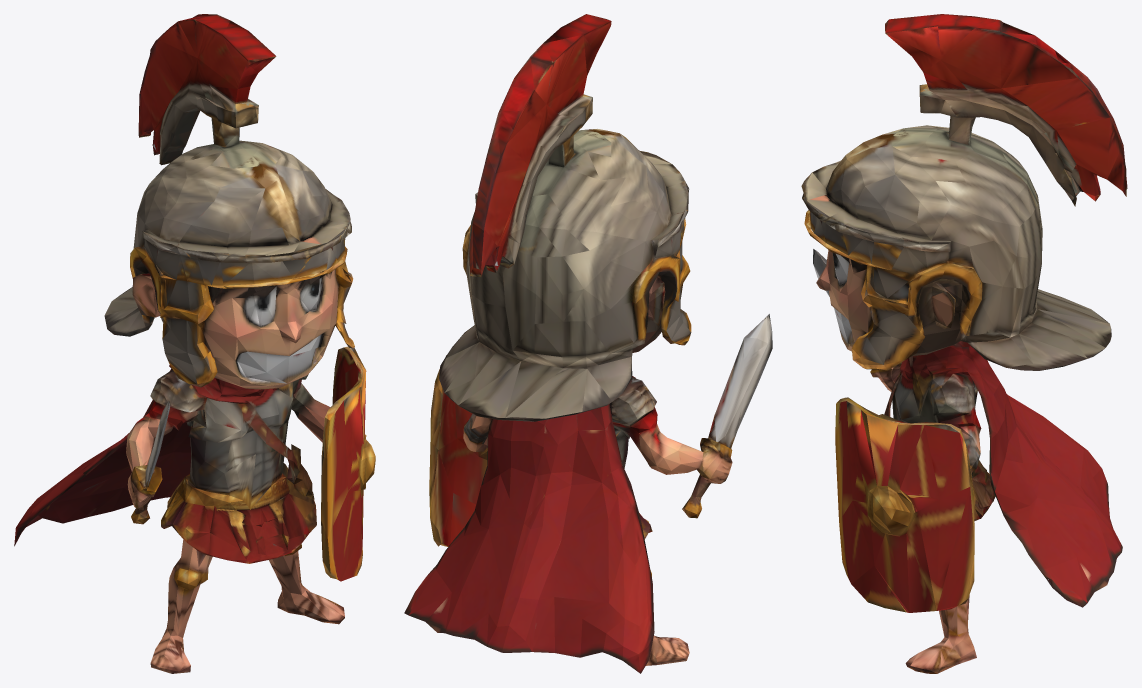
Rendered from romanoMAt.glb.
3 renders of one model, left to right at view 1: azimuth 30°, elevation 25°; view 2: azimuth 150°, elevation 25°; view 3: azimuth 270°, elevation 25°, orthographic. The views are drawn at different scales.
Visible parts, largest first — view 1: temp; view 2: temp; view 3: temp.
Boxes of the visible parts, <box> form: temp: <box>14,14,375,673</box>; temp: <box>404,14,772,673</box>; temp: <box>801,14,1127,673</box>.
Size of the model in its own units: 1.88 by 3.99 by 1.95.
1 material, 1 textured.
